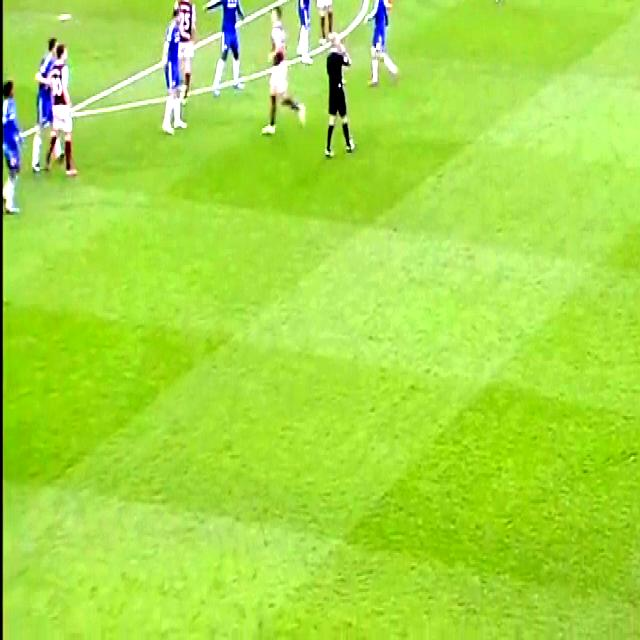referee: (321, 24, 363, 170)
soccer-player: (261, 2, 307, 145), (42, 24, 80, 179), (158, 0, 194, 139), (31, 21, 63, 170), (213, 0, 253, 103), (1, 71, 26, 217), (365, 0, 398, 91), (172, 0, 203, 87), (290, 0, 317, 62), (313, 0, 341, 57), (477, 0, 513, 7), (387, 0, 416, 4)
